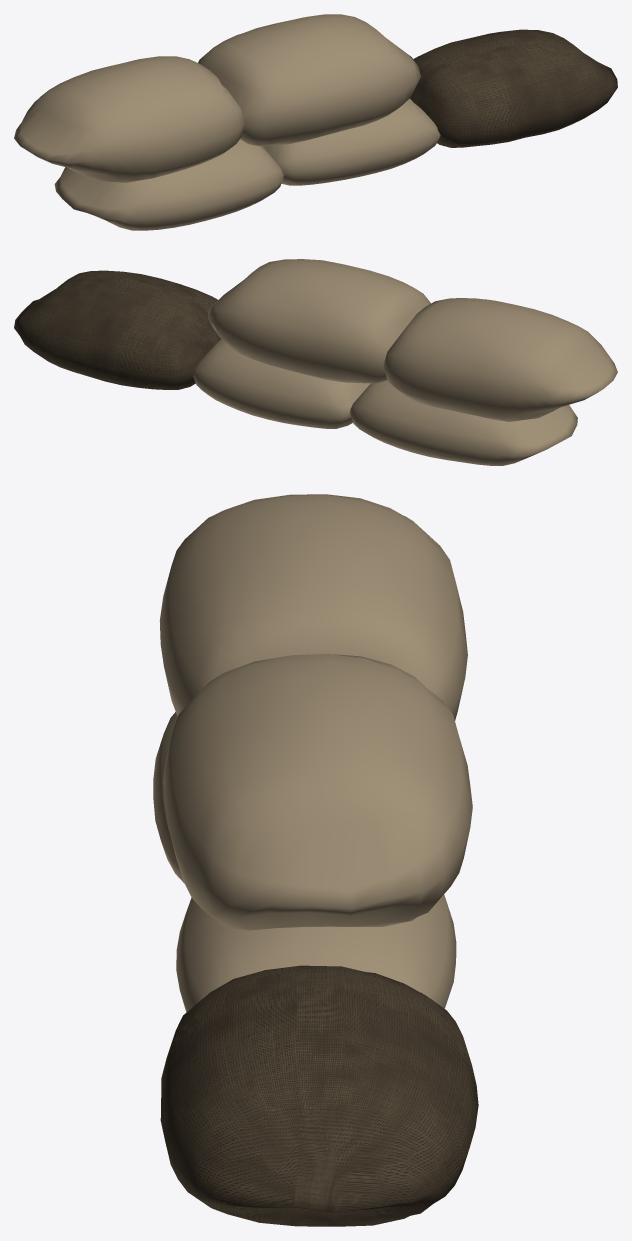
File: S7U_SandbagsS_2L_B.fbx
3 renders of one model, top to bottom at view 1: azimuth 30°, elevation 25°; view 2: azimuth 150°, elevation 25°; view 3: azimuth 270°, elevation 25°, orthographic. The views are drawn at different scales.
Parts seen in each view (by area): view 1: S7U_SandbagsS_2L_B; view 2: S7U_SandbagsS_2L_B; view 3: S7U_SandbagsS_2L_B.
Part boxes in pixels (box(x1,y1,x2,y2)): S7U_SandbagsS_2L_B: box(14, 14, 617, 230); S7U_SandbagsS_2L_B: box(14, 259, 617, 465); S7U_SandbagsS_2L_B: box(153, 494, 478, 1226).
Bounding box in the file's own units: 1.25 × 0.2948 × 0.3044.
